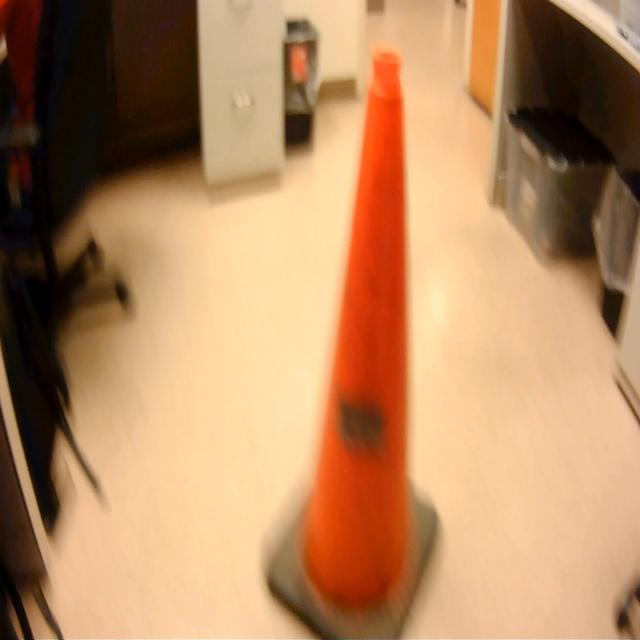traffic cone: (257, 26, 445, 640)
